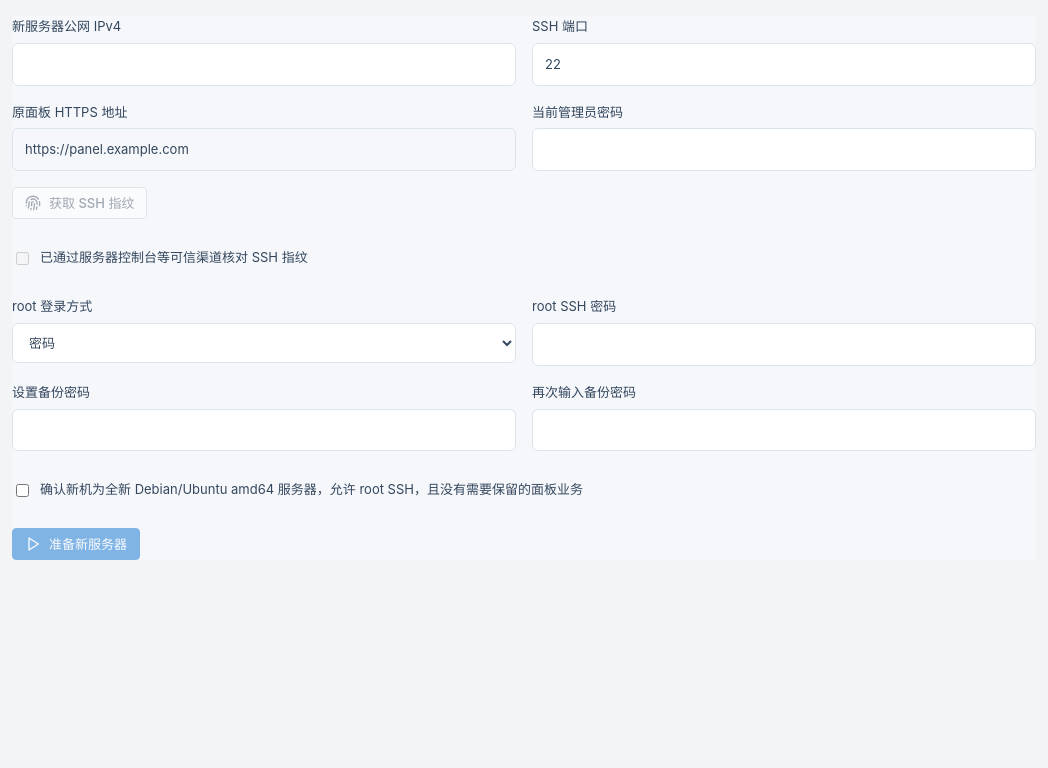
it: automatic panel migration › retains form errors across status polls and invalidates trust when target changes
Type "8.8.8.8" into the field labelled "新服务器公网 IPv4" at (264, 64), box [12,43,516,86]
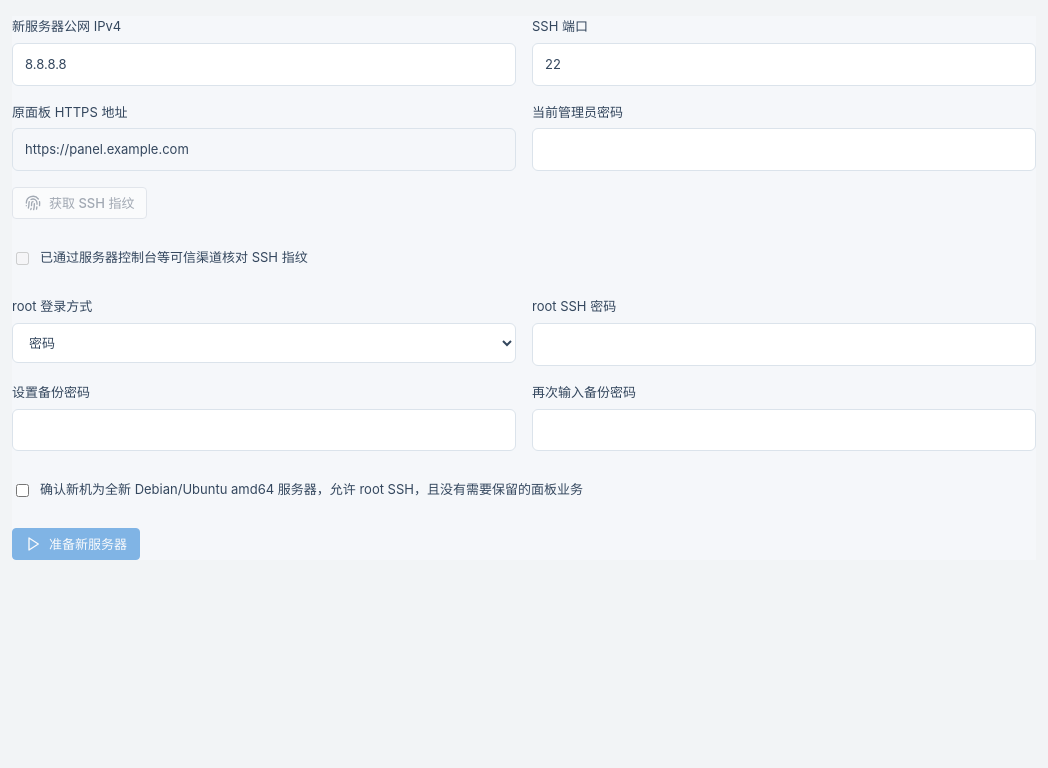
Type "isolated-admin" into the password field labelled "当前管理员密码" at (784, 150), box [532,128,1036,171]
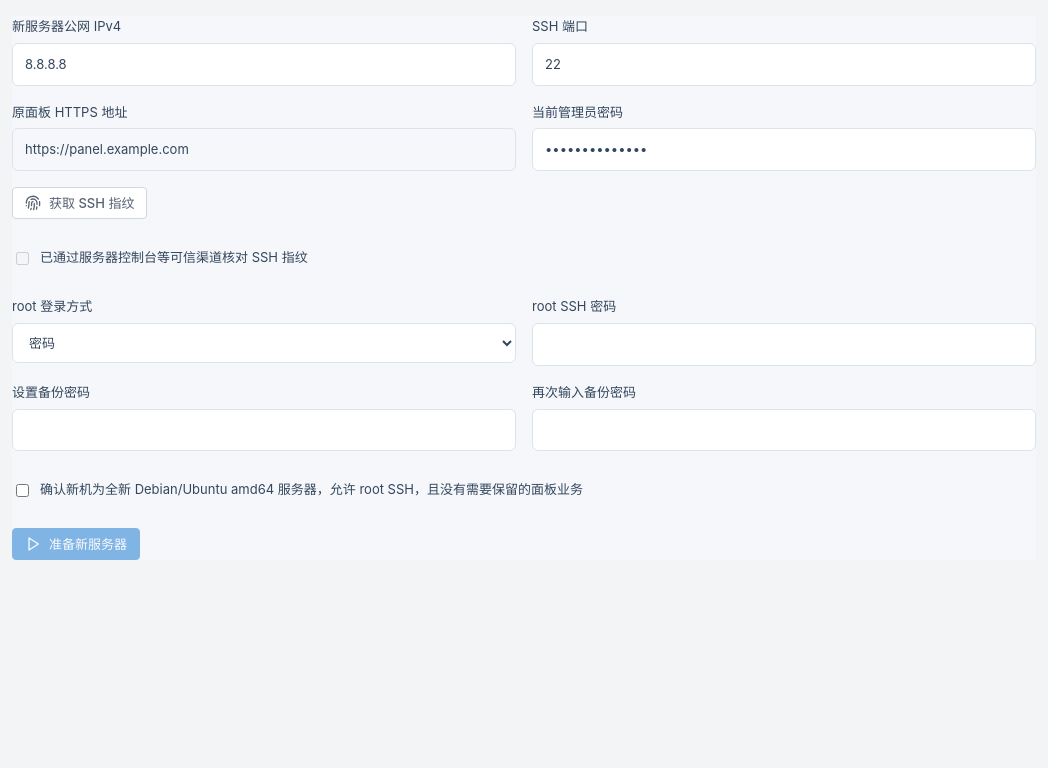
Click the button "获取 SSH 指纹" at (80, 203), box [12,187,147,219]
Wait 5000 ms
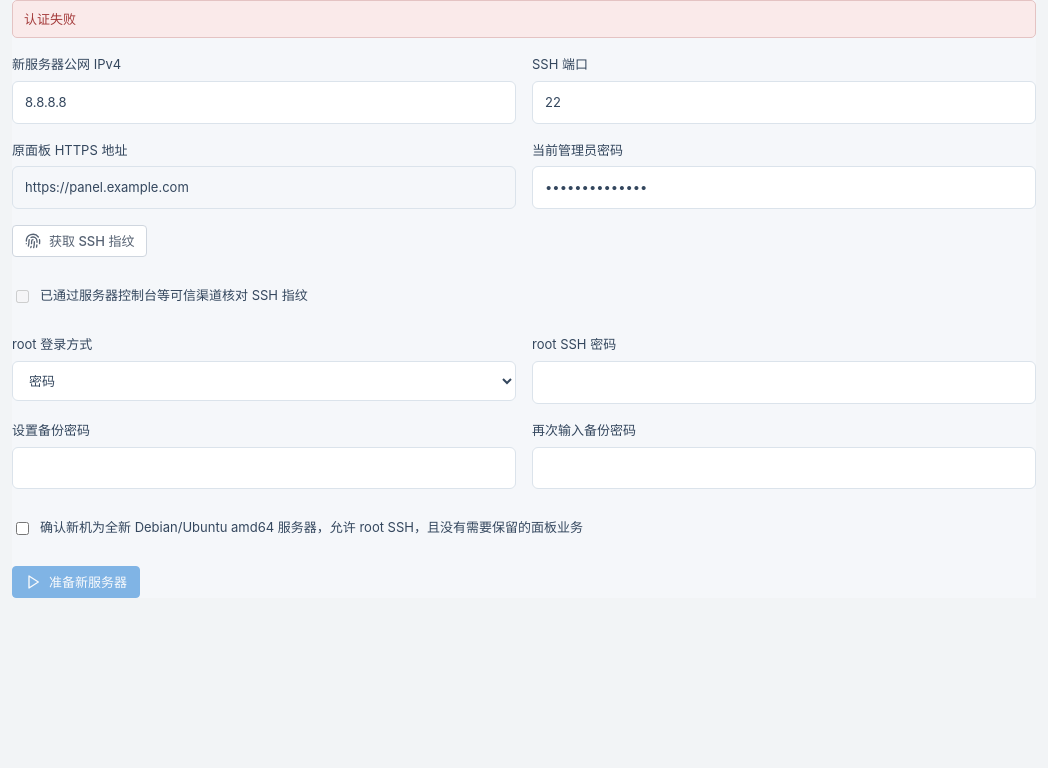
Expected: the text "认证失败" is shown, [12,0,1036,38]
Click the button "获取 SSH 指纹" at (80, 241), box [12,225,147,257]
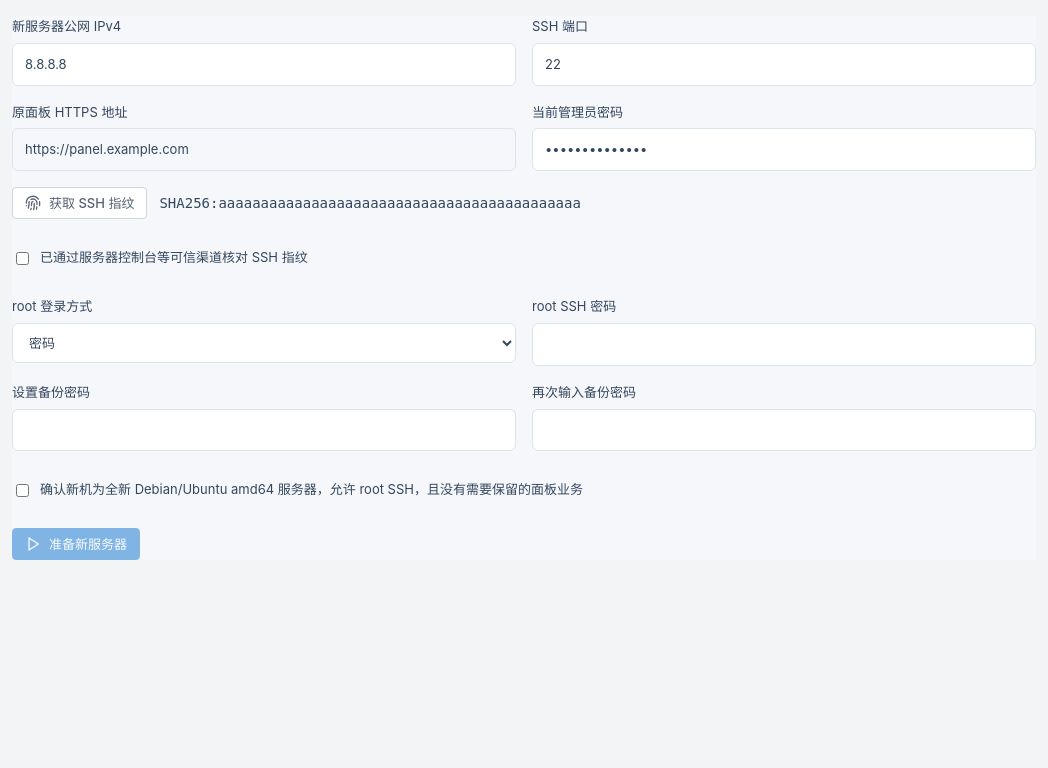
Click the checkbox labelled "已通过服务器控制台等可信渠道核对 SSH 指纹" at (22, 259), box [16,252,29,265]
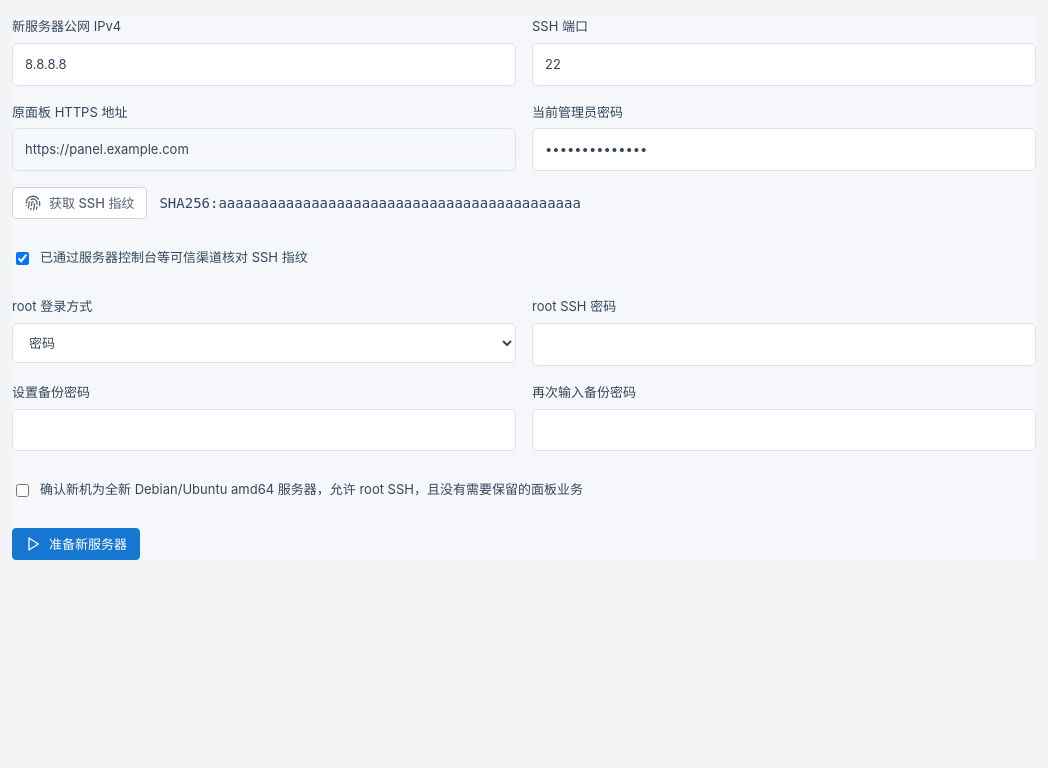
Replace the text in the field labelled "新服务器公网 IPv4" with "8.8.4.4" at (264, 64), box [12,43,516,86]
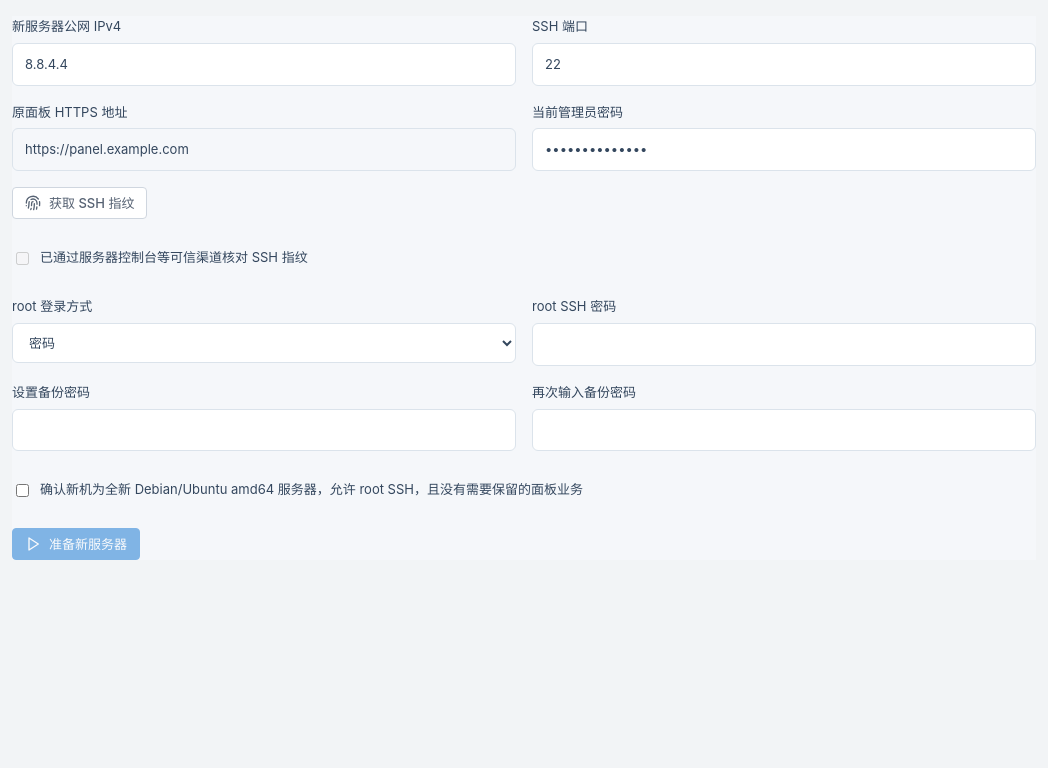
Expected: the button "准备新服务器" is disabled, [12,528,140,560]
